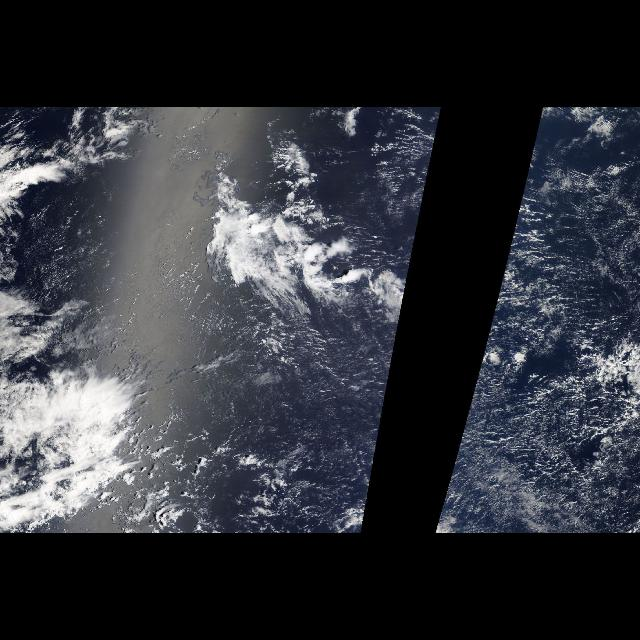Sugar: (434, 142, 640, 532), (222, 274, 412, 532)
